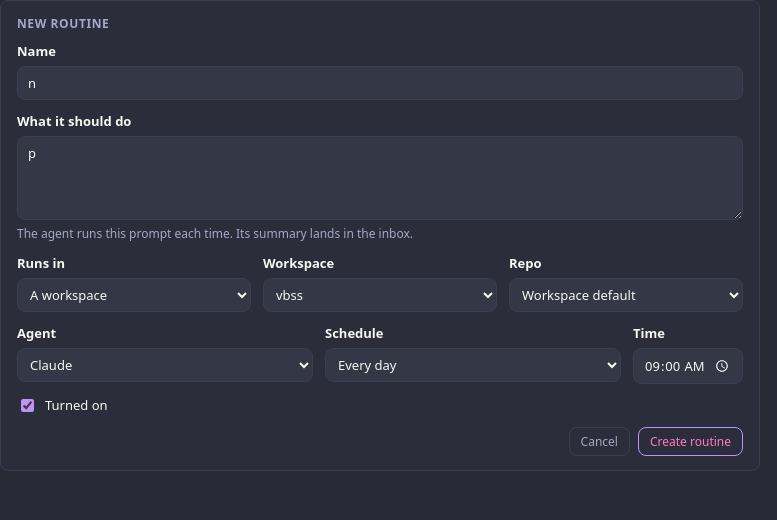
Test: an unfinished time blocks the form with a hint
Step 1. Clear the time field labelled "Time" → {"x": 688, "y": 366}, box x1=633 y1=348 x2=743 y2=384
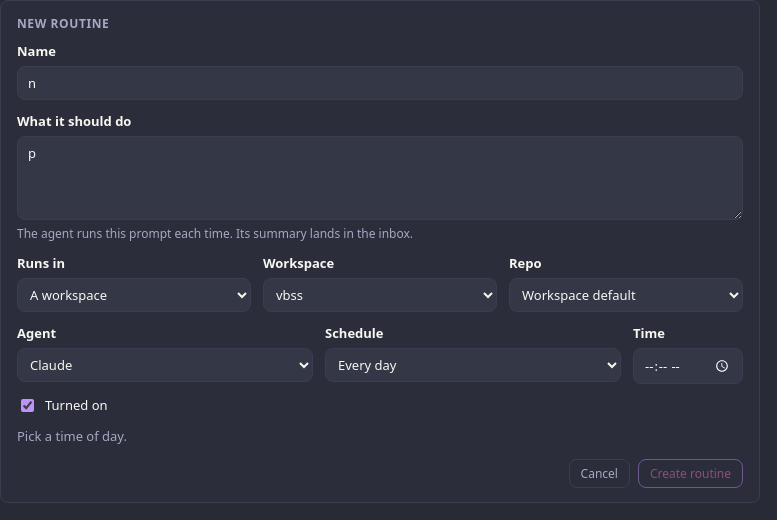
Now the text "Pick a time of day." is shown, box x1=17 y1=427 x2=127 y2=445
Now the button "Create routine" is disabled, box x1=638 y1=459 x2=743 y2=488
